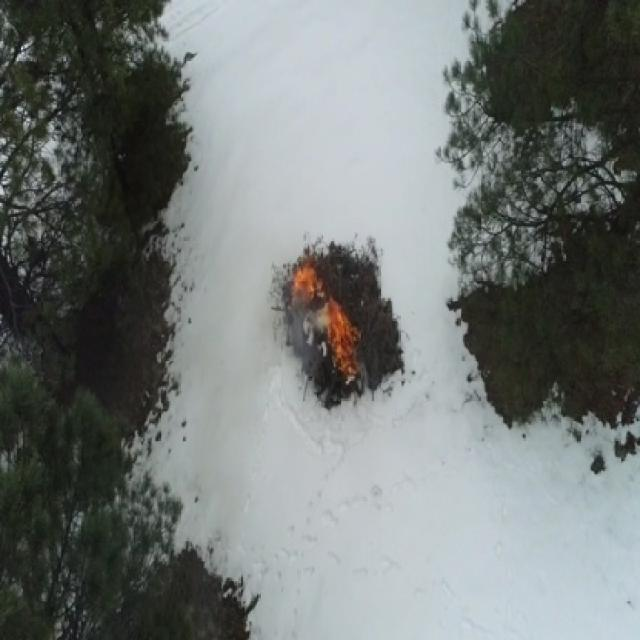Fire: (294, 266, 320, 301), (336, 344, 358, 374), (331, 300, 347, 335), (327, 332, 358, 344)
